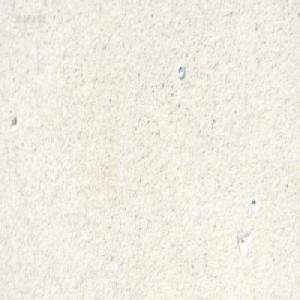Washer: (177, 63, 184, 78)
